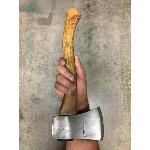Kapak: (42, 6, 110, 146)
